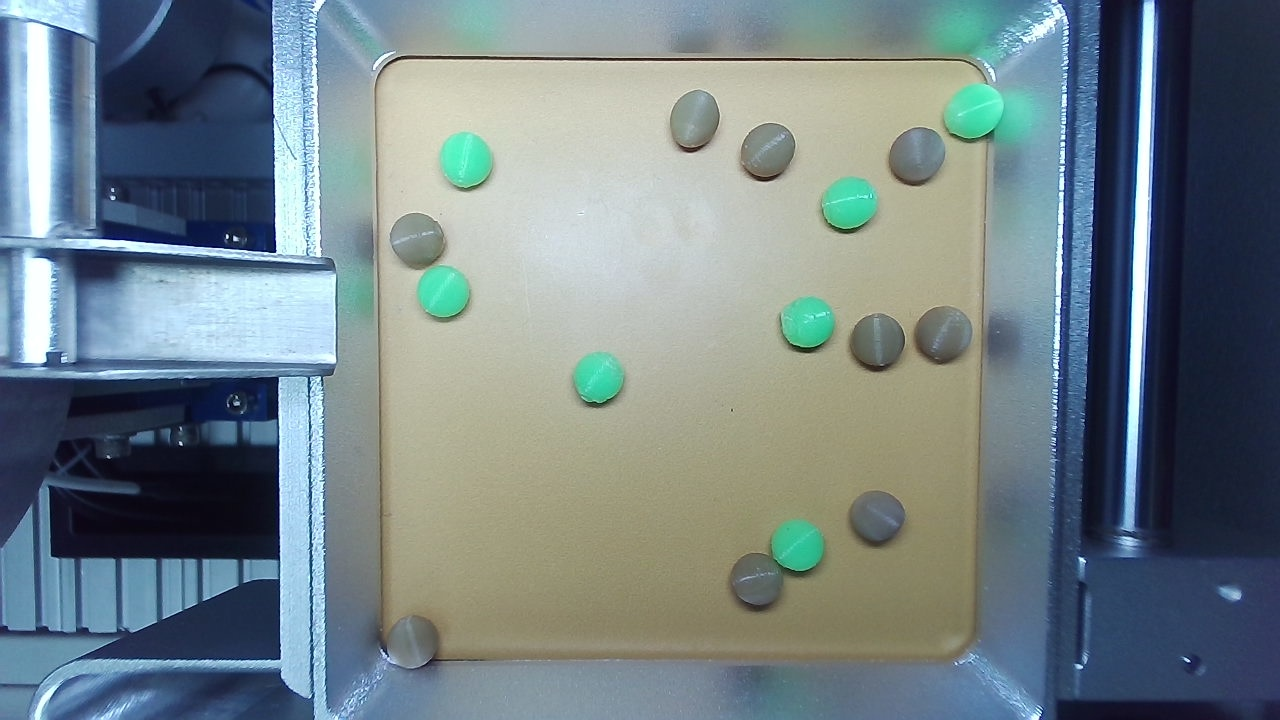XLabel: (705, 180, 772, 248)
YLabel: (1122, 223, 1187, 292)
none: (986, 343, 1280, 680)
transparenexcept: (510, 284, 946, 720)
